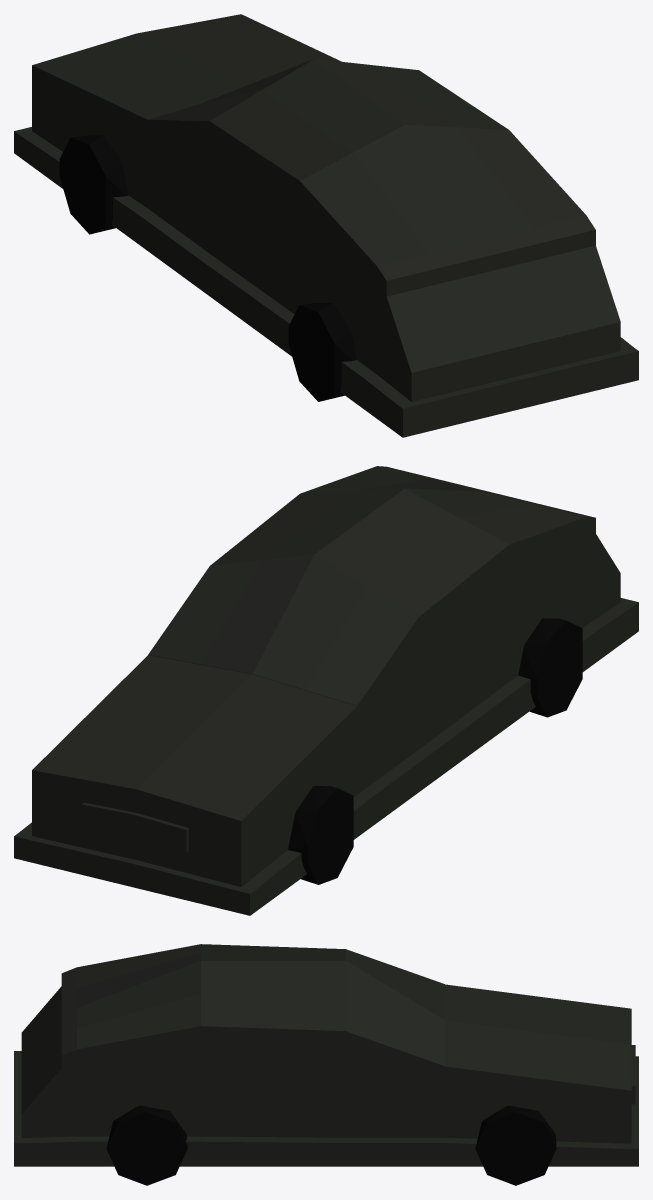
Rendered from car.glb.
3 renders of one model, top to bottom at view 1: azimuth 30°, elevation 25°; view 2: azimuth 150°, elevation 25°; view 3: azimuth 270°, elevation 25°, orthographic. The views are drawn at different scales.
Parts seen in each view (by area): view 1: Cube, frontRight.002, frontRight; view 2: Cube, frontRight.002, frontRight; view 3: Cube, frontRight.001, backRight.
Part boxes in pixels (bbox=[...]): Cube: bbox=[14, 14, 638, 437]; frontRight.002: bbox=[59, 135, 128, 234]; frontRight: bbox=[288, 302, 356, 401]; Cube: bbox=[14, 466, 638, 915]; frontRight.002: bbox=[288, 786, 353, 884]; frontRight: bbox=[518, 618, 582, 717]; Cube: bbox=[14, 944, 638, 1166]; frontRight.001: bbox=[475, 1105, 556, 1185]; backRight: bbox=[106, 1105, 187, 1185].
Size of the model in its own units: 1.65 by 1.4 by 4.49.
2 materials, 1 textured.
